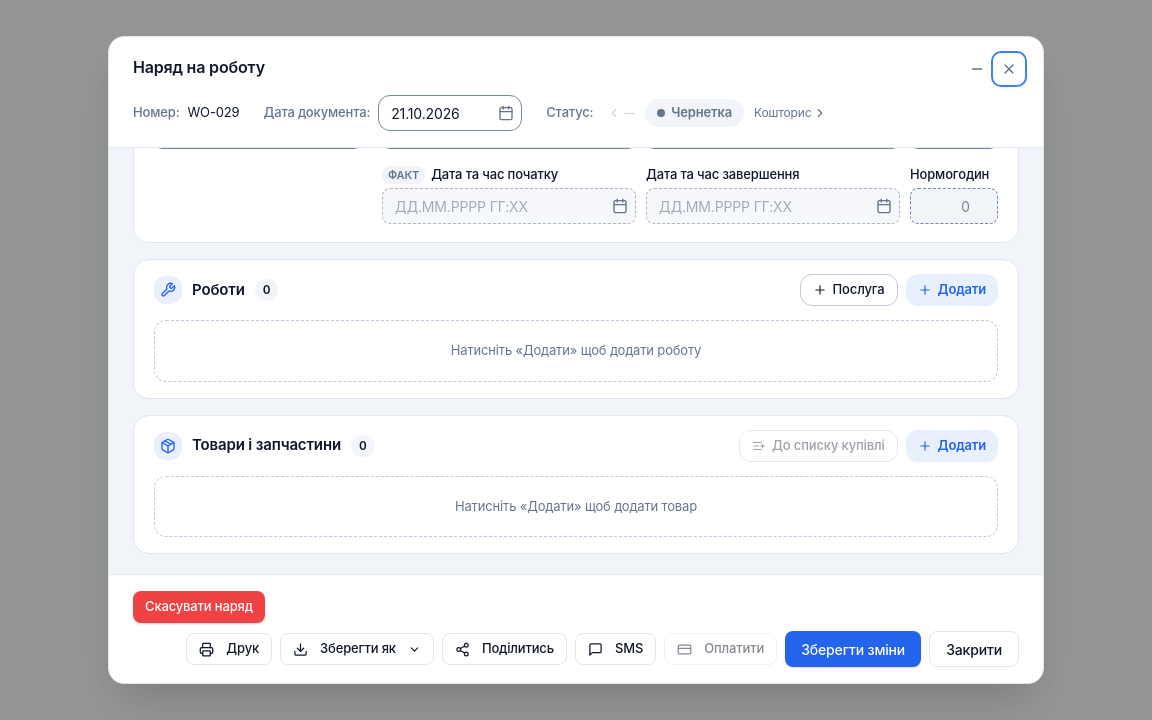
Test: CreateWorkOrderModal — склад рядка товару (BR-WO-029) › вільна на кількох, зокрема на основному → основний
(page scrolled)
expect the text "Натисніть «Додати» щоб додати товар" is shown: met, box [154,476,998,537]
Click the button "Додати" in the row of "Товари і запчастини" at (952, 446), box [906,430,998,462]
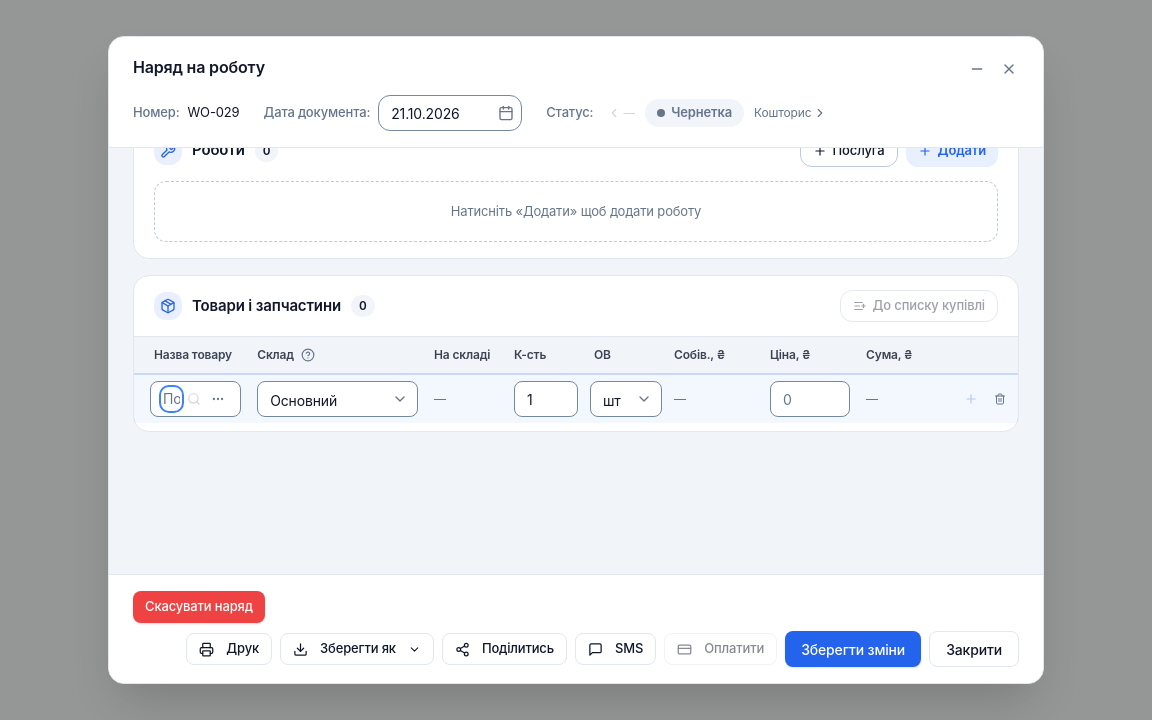
Type "Олива на" into the dropdown labelled "товар" at (172, 399), box [163,389,180,409]
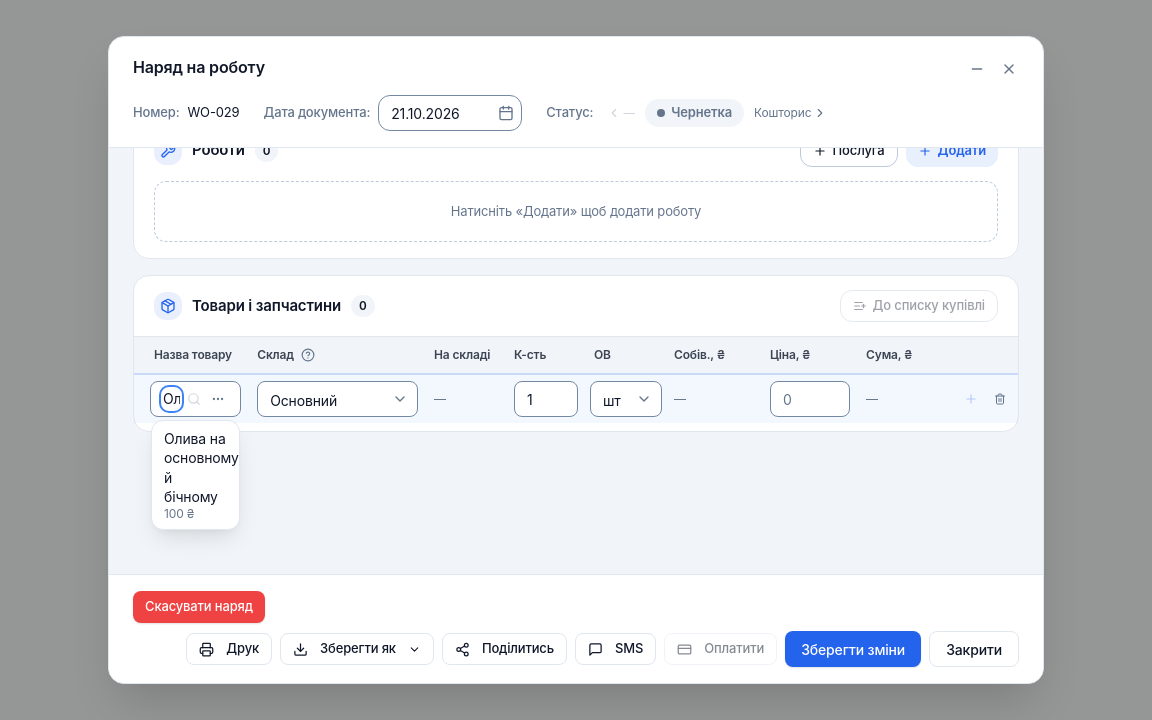
Click the option "Олива на основному й бічному 100 ₴" at (195, 438), box [152,421,239,529]
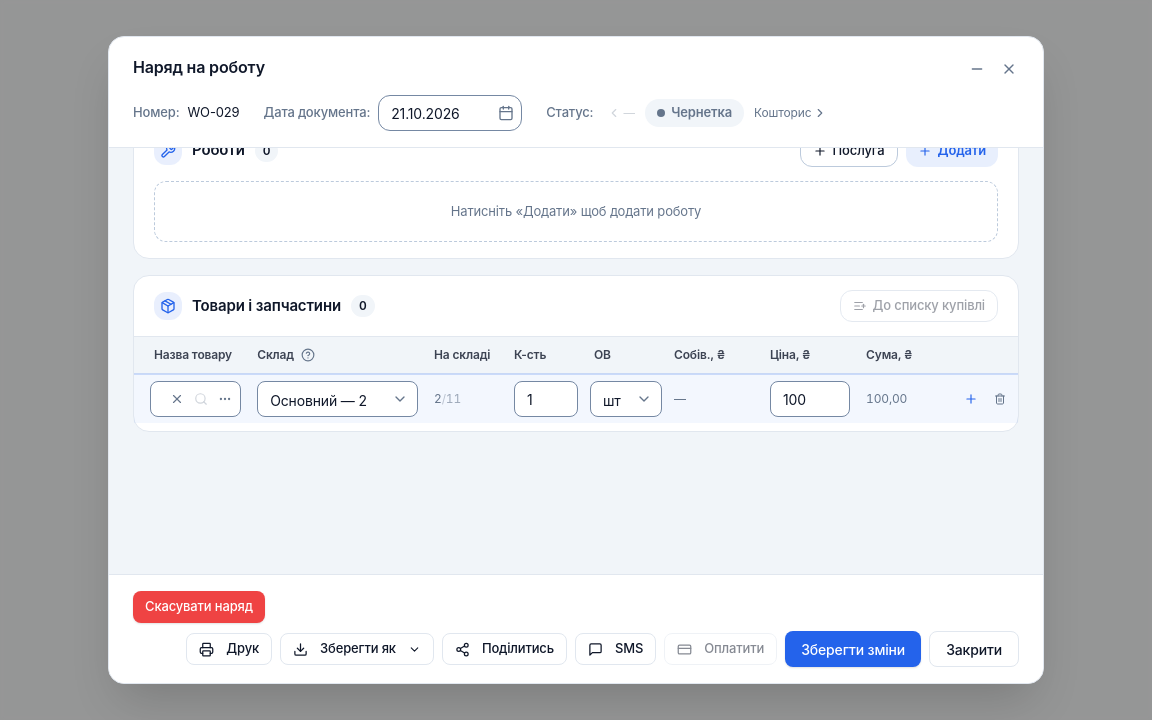
expect the dropdown named "Склад" shows "Основний — 2": met, box [257,381,418,417]
expect the button titled "Зберегти рядок" is enabled: met, box [960,388,982,410]
